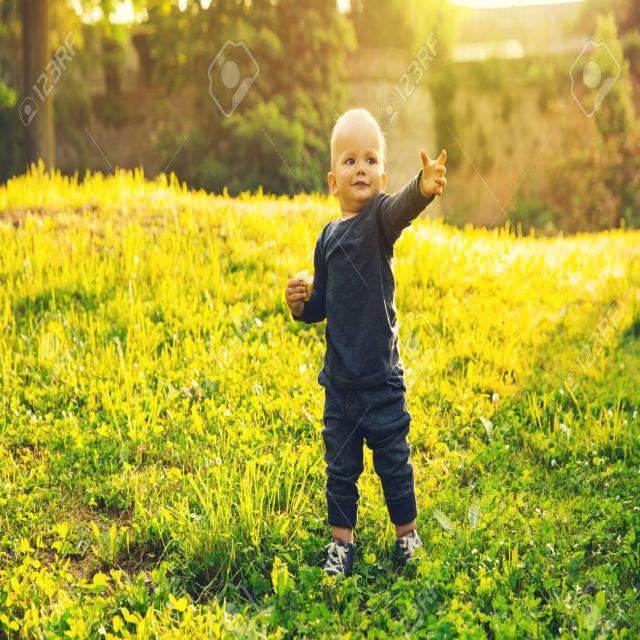Person: (284, 106, 448, 576)
